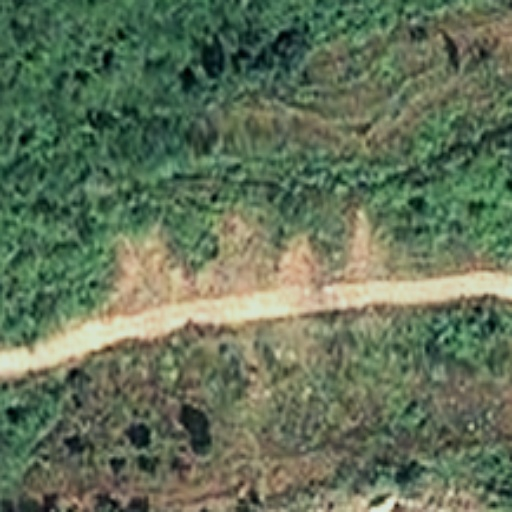landslide: (112, 226, 323, 303)
